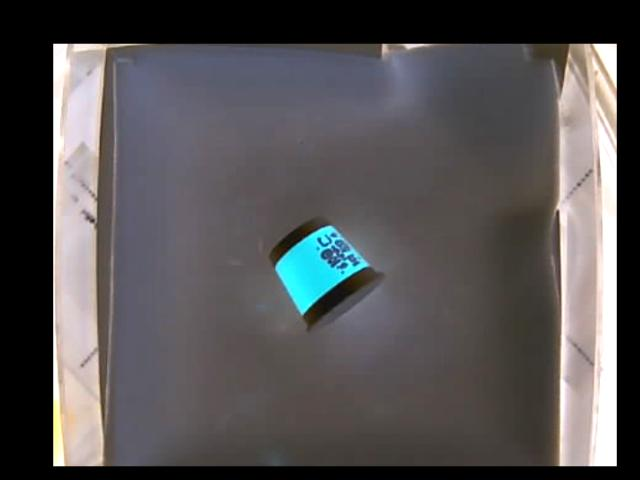Cup: (266, 218, 386, 330)
